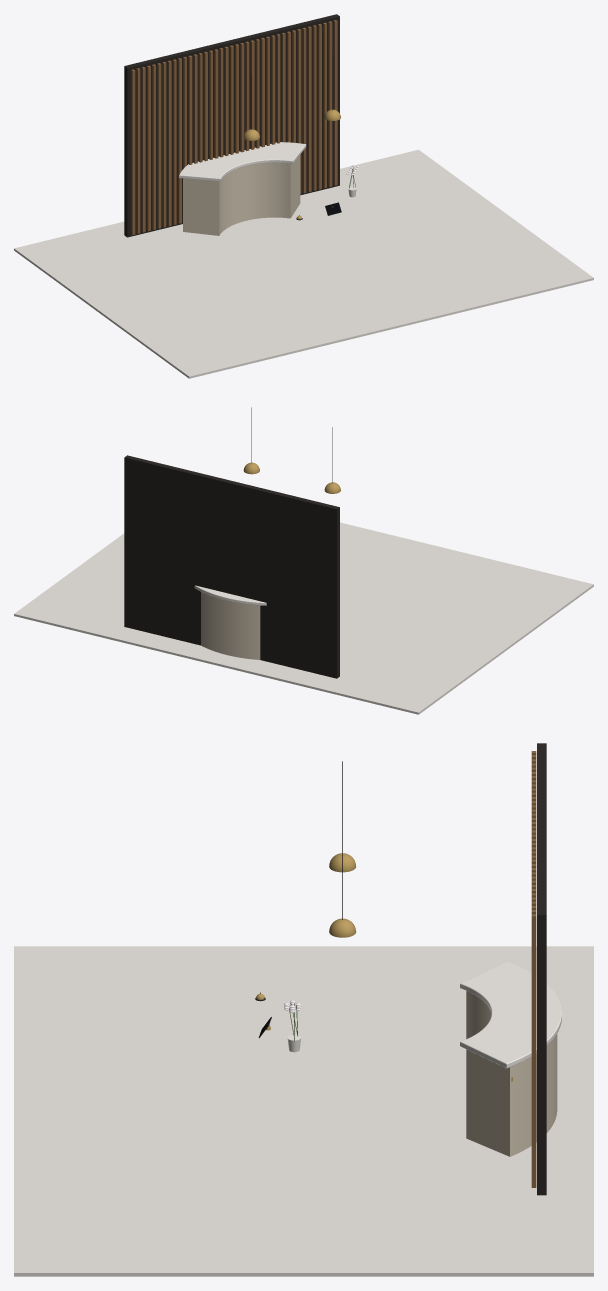
The model's file is conciergeDesk.glb.
3 views of the same model, one above another, from view 1: azimuth 30°, elevation 25°; view 2: azimuth 150°, elevation 25°; view 3: azimuth 270°, elevation 25° (orthographic). The views are drawn at different scales.
Visible parts, largest first — view 1: floor, backWall, desk, deskTop; view 2: floor, backWall, desk, deskTop; view 3: floor, desk, backWall, deskTop.
Boxes of the visible parts, left/top/right/bottom form: floor: left=14, top=149, right=593, bottom=378; backWall: left=124, top=14, right=339, bottom=237; desk: left=183, top=155, right=300, bottom=235; deskTop: left=179, top=142, right=306, bottom=181; floor: left=14, top=522, right=593, bottom=714; backWall: left=124, top=455, right=339, bottom=678; desk: left=201, top=592, right=260, bottom=659; deskTop: left=194, top=585, right=266, bottom=605; floor: left=14, top=946, right=593, bottom=1276; desk: left=466, top=991, right=557, bottom=1156; backWall: left=531, top=743, right=546, bottom=1195; deskTop: left=460, top=961, right=561, bottom=1068.
Size of the model in its own units: 8 by 3.64 by 6.
